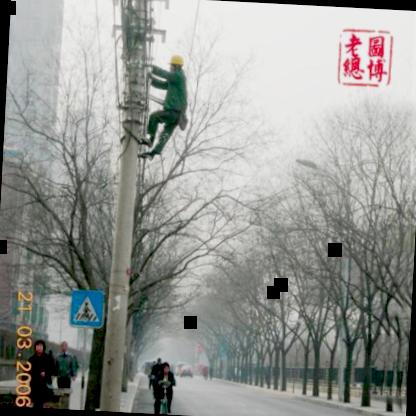helmet: (164, 50, 186, 76)
